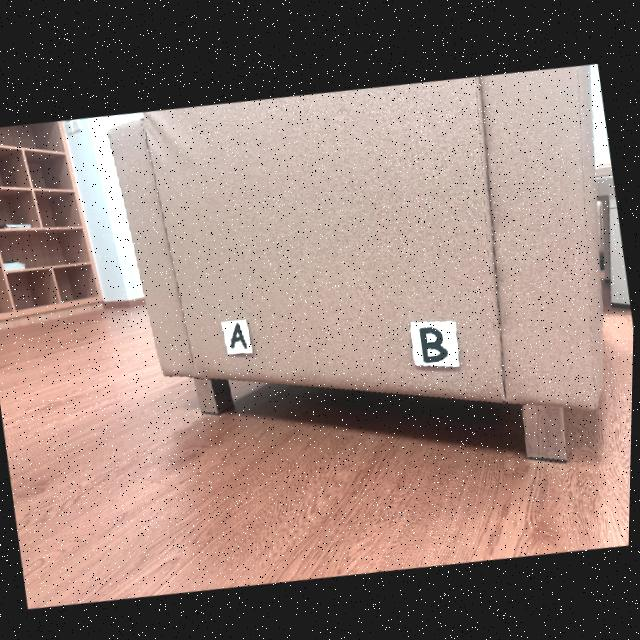A: (232, 320, 249, 347)
B: (422, 322, 448, 358)
